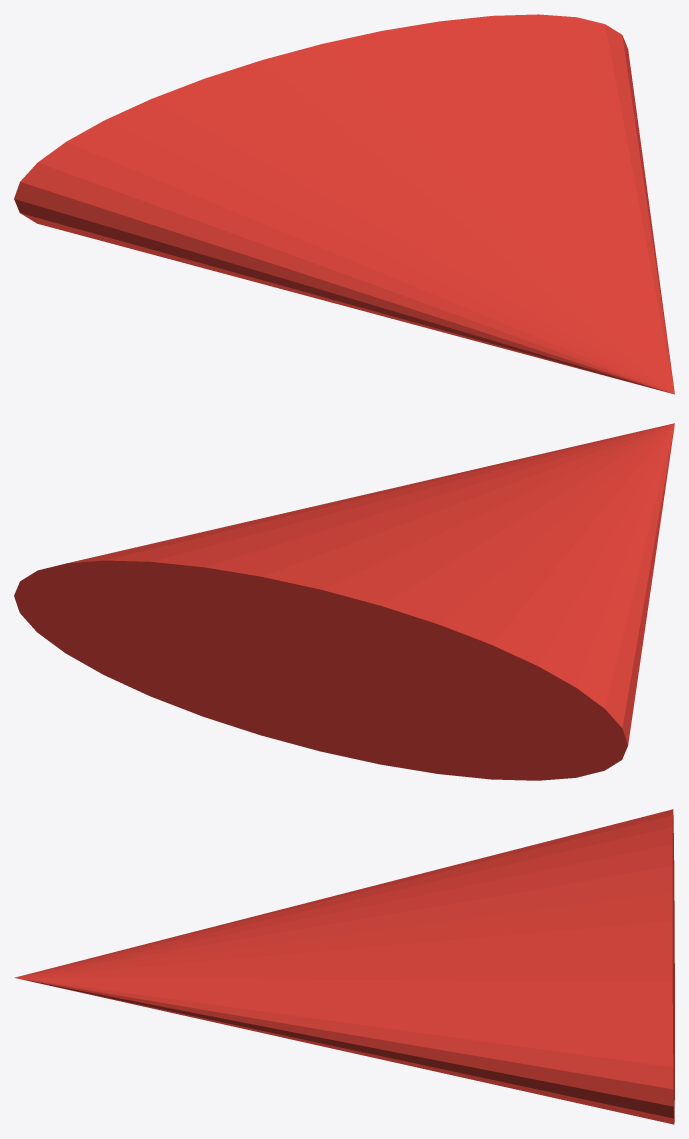
Rendered from ExportedBlenderFBXFile.fbx.
3 renders of one model, top to bottom at view 1: azimuth 30°, elevation 25°; view 2: azimuth 150°, elevation 25°; view 3: azimuth 270°, elevation 25°, orthographic. The views are drawn at different scales.
Visible parts, largest first — view 1: Cone; view 2: Cone; view 3: Cone.
Part boxes in pixels (<box>): Cone: <box>14,14,674,394</box>; Cone: <box>14,423,674,780</box>; Cone: <box>14,809,674,1124</box>.
Bounding box in the file's own units: 1 × 0.25 × 1.
